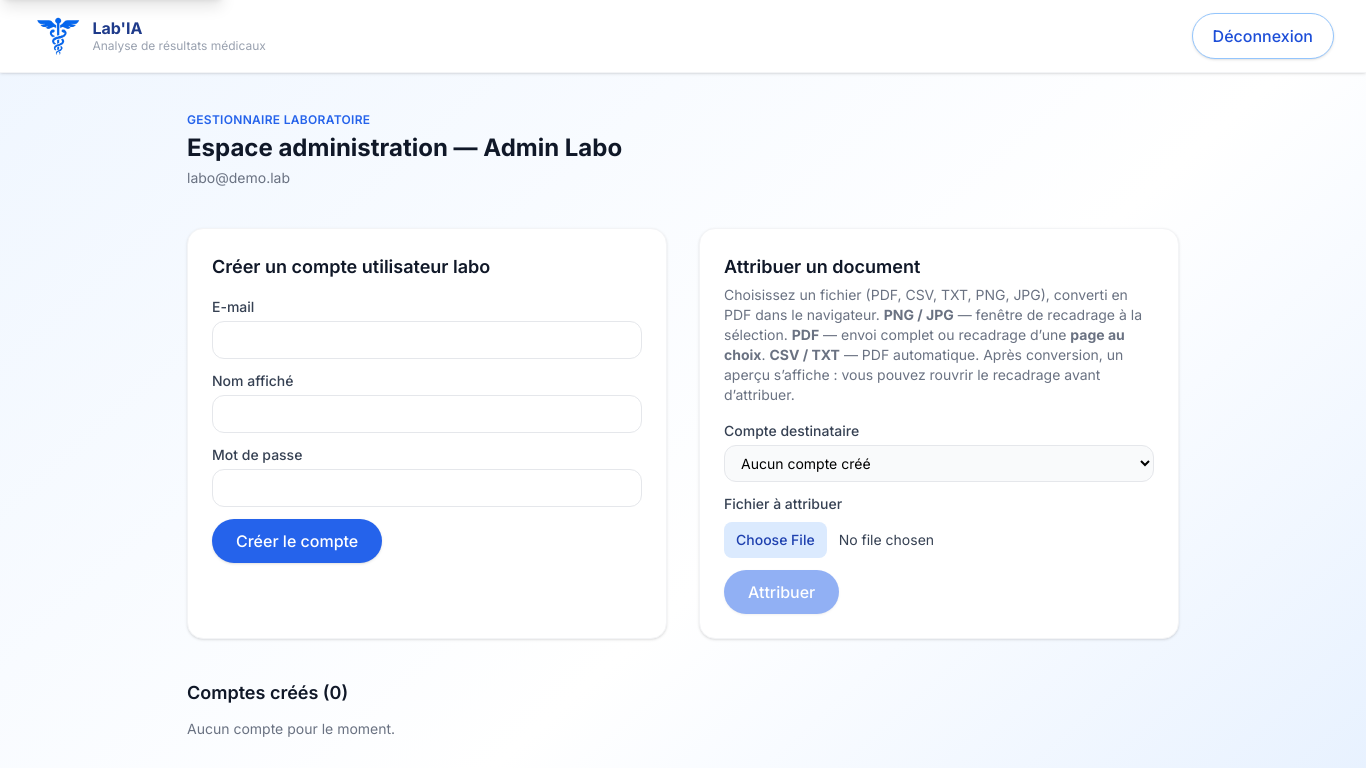
Test: LaboDashboard — intégration › affiche un message de succès après la création du compte
Type "alice@test.com" into the field labelled "E-mail" at {"x": 427, "y": 340}, box [212,321,642,359]
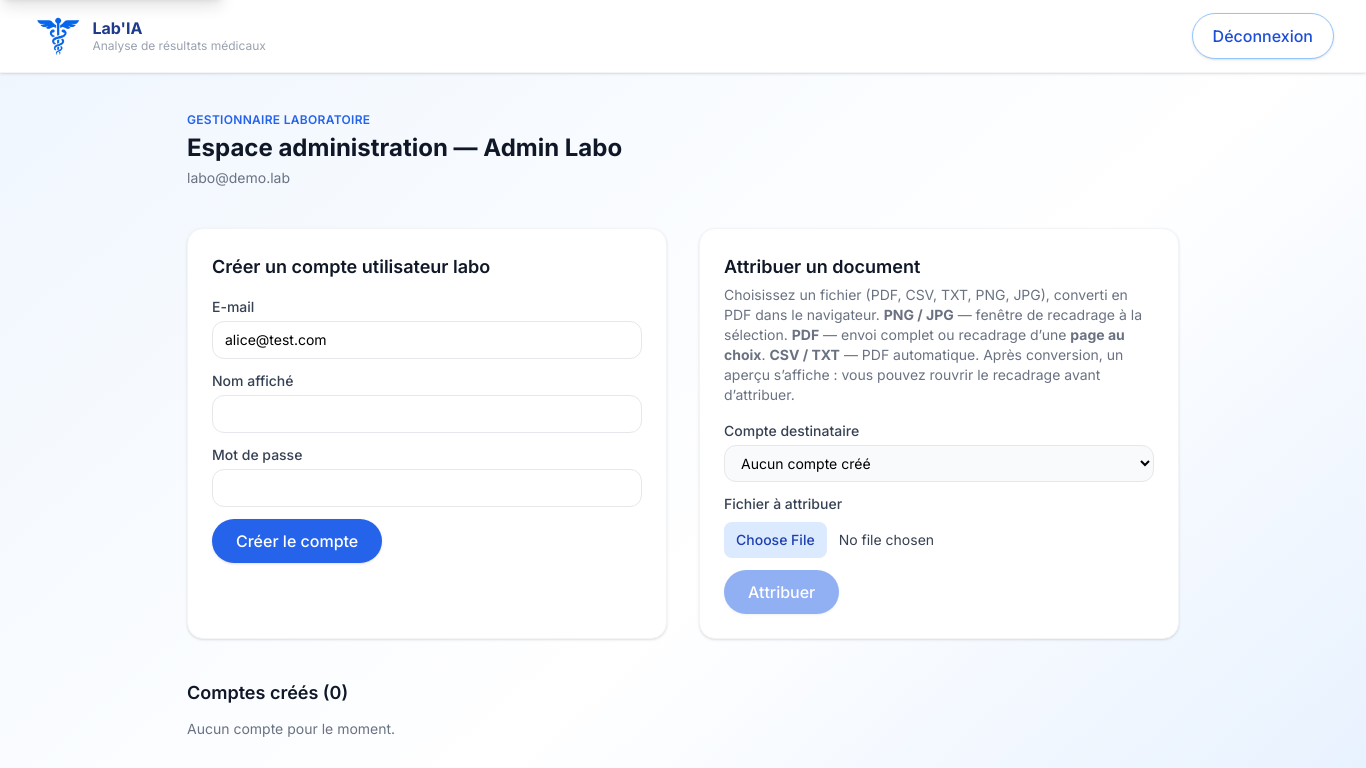
Type "Alice Martin" into the field labelled "Nom affiché" at {"x": 427, "y": 414}, box [212,395,642,433]
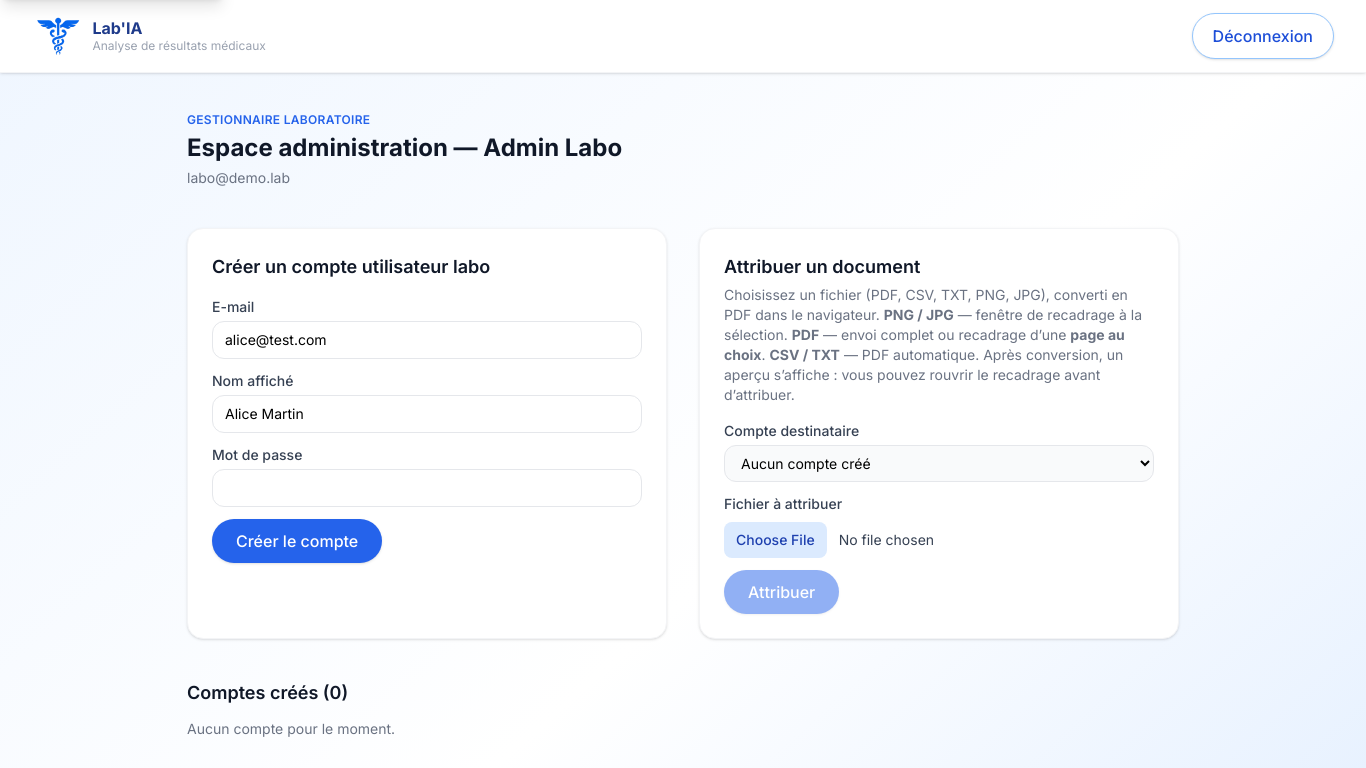
Type "motdepasse" into the password field labelled "Mot de passe" at {"x": 427, "y": 488}, box [212,469,642,507]
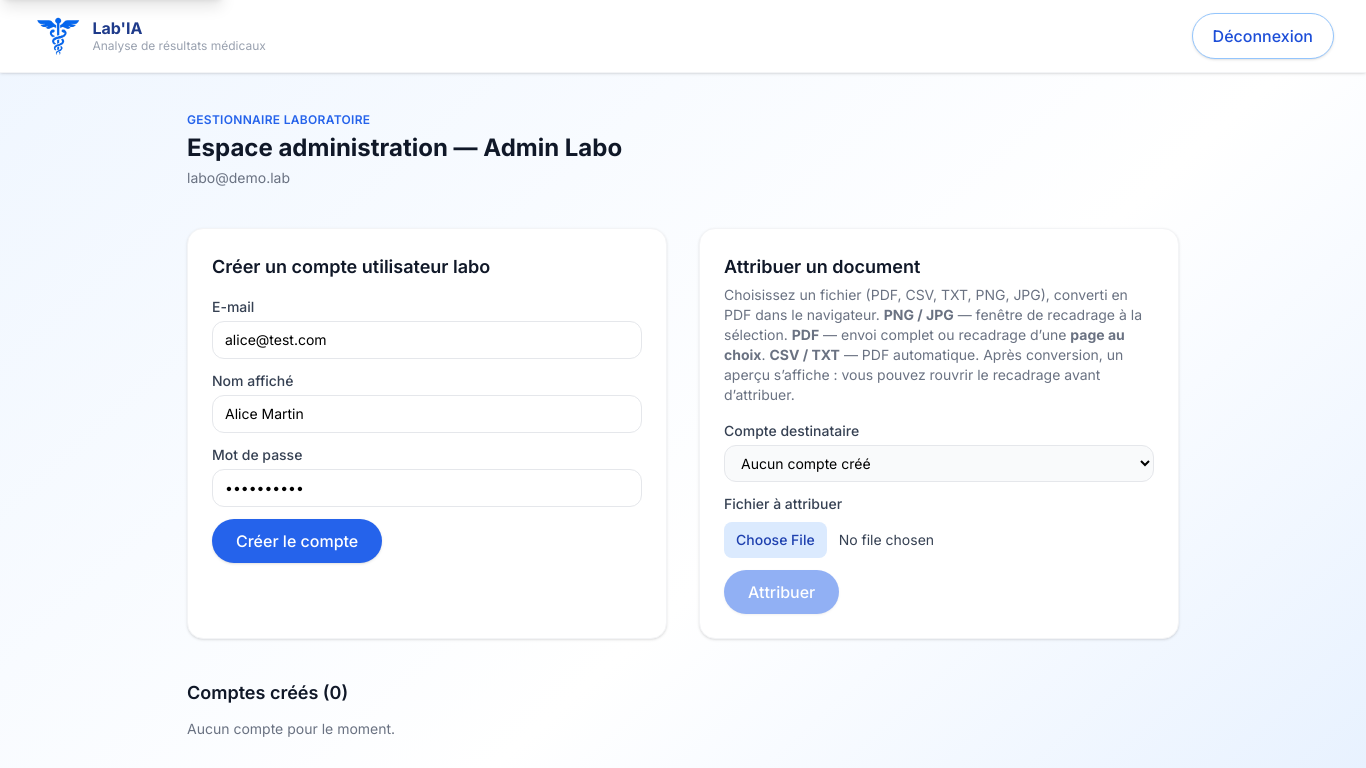
Click the button "Créer le compte" at {"x": 297, "y": 541}, box [212,519,382,563]
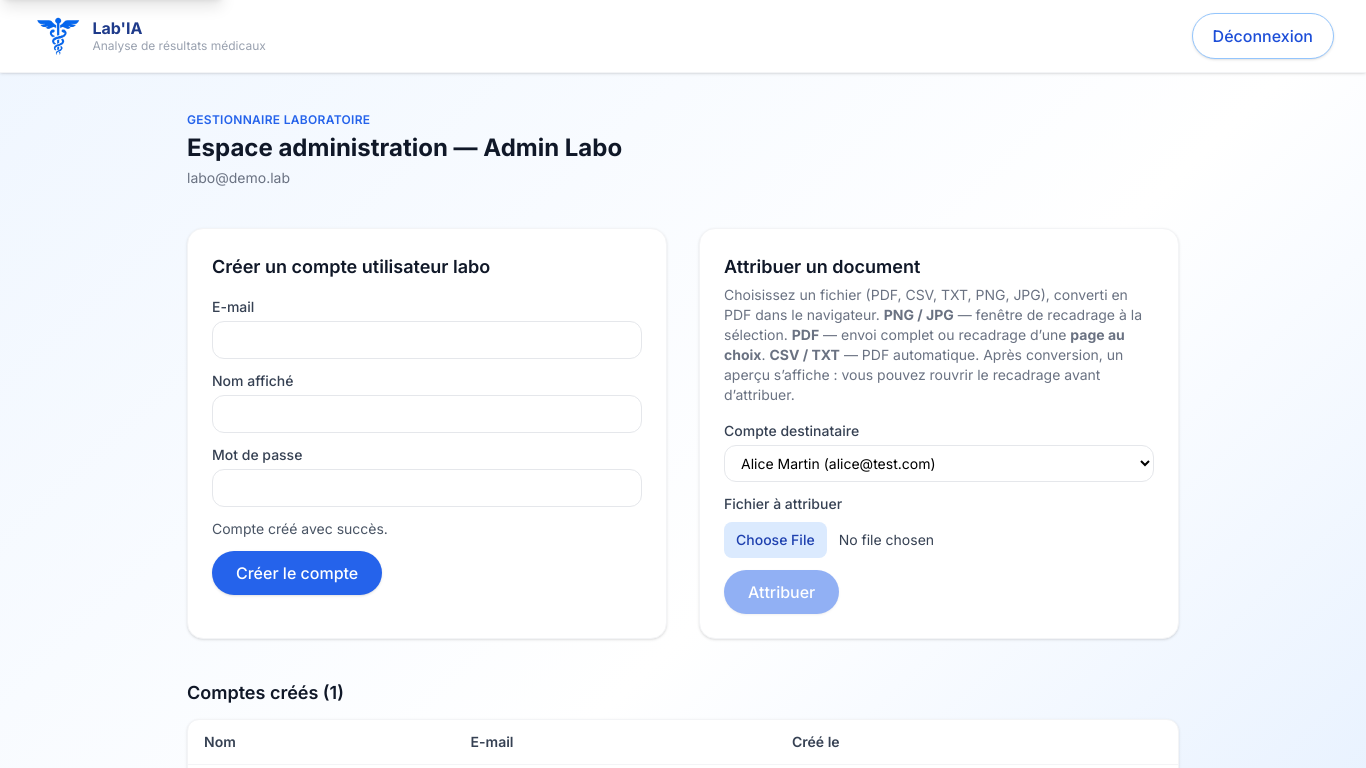
Check: the text "Compte créé avec succès." is shown, box [212,520,388,537]
